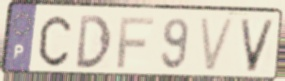9: (159, 17, 192, 72)
C: (37, 14, 73, 69)
D: (75, 14, 113, 71)
F: (115, 16, 156, 71)
V: (197, 15, 238, 75), (237, 17, 278, 74)
